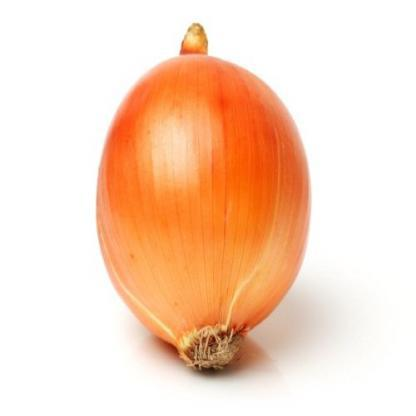onion: (94, 50, 330, 375)
